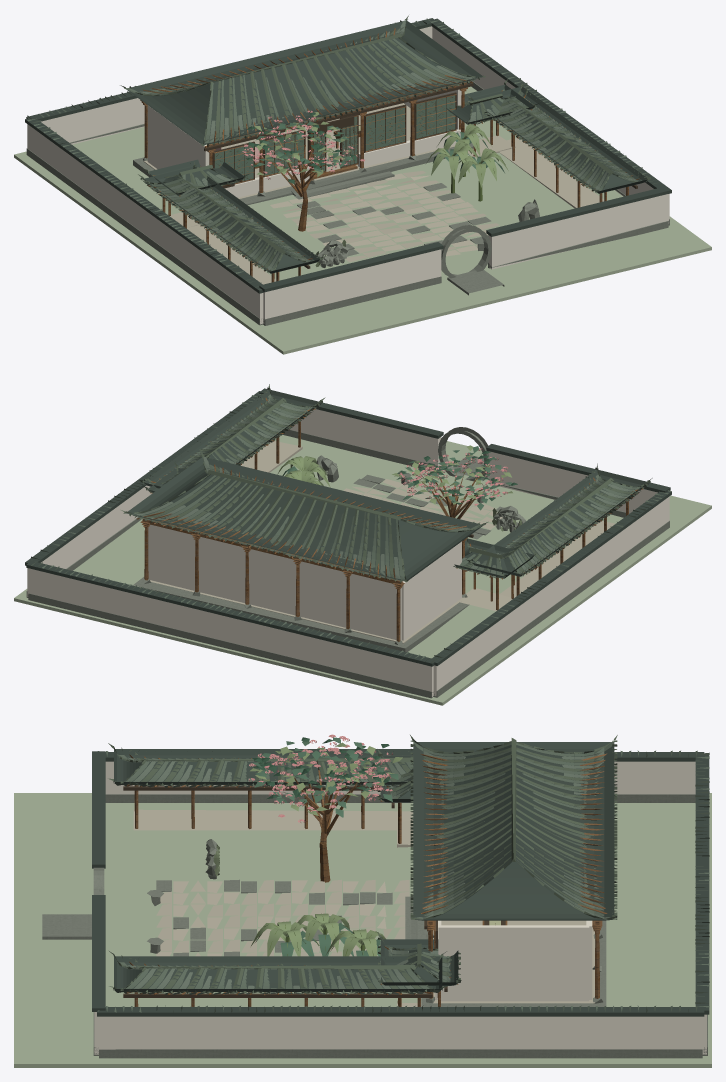
The model's file is public_models_places-low_yihongyuan.glb.
3 renders of one model, top to bottom at view 1: azimuth 30°, elevation 25°; view 2: azimuth 150°, elevation 25°; view 3: azimuth 270°, elevation 25°, orthographic. The views are drawn at different scales.
Visible parts, largest first — view 1: yihongyuan_roof, yihongyuan_earth, yihongyuan_plaster, yihongyuan_paving, yihongyuan_stone, yihongyuan_tiledark, yihongyuan_tile, yihongyuan_wood, yihongyuan_screen, yihongyuan_tilelight, yihongyuan_lightleaf, yihongyuan_darkwood (+3 smaller); view 2: yihongyuan_plaster, yihongyuan_roof, yihongyuan_earth, yihongyuan_stone, yihongyuan_tiledark, yihongyuan_tile, yihongyuan_wood, yihongyuan_paving, yihongyuan_tilelight, yihongyuan_lightleaf, yihongyuan_flower, yihongyuan_leaf (+1 smaller); view 3: yihongyuan_earth, yihongyuan_roof, yihongyuan_plaster, yihongyuan_tiledark, yihongyuan_paving, yihongyuan_stone, yihongyuan_tile, yihongyuan_wood, yihongyuan_tilelight, yihongyuan_lightleaf, yihongyuan_darkwood, yihongyuan_leaf (+2 smaller).
Boxes of the visible parts, left/top/right/bottom form: yihongyuan_roof: left=25, top=18, right=671, bottom=293; yihongyuan_earth: left=14, top=86, right=711, bottom=354; yihongyuan_plaster: left=27, top=26, right=669, bottom=324; yihongyuan_paving: left=143, top=103, right=604, bottom=284; yihongyuan_stone: left=26, top=80, right=669, bottom=325; yihongyuan_tiledark: left=120, top=15, right=650, bottom=272; yihongyuan_tile: left=27, top=18, right=658, bottom=289; yihongyuan_wood: left=140, top=28, right=640, bottom=282; yihongyuan_screen: left=214, top=95, right=455, bottom=183; yihongyuan_tilelight: left=140, top=20, right=638, bottom=271; yihongyuan_lightleaf: left=254, top=112, right=508, bottom=187; yihongyuan_darkwood: left=204, top=83, right=637, bottom=268; yihongyuan_plaster: left=27, top=409, right=669, bottom=696; yihongyuan_roof: left=25, top=388, right=671, bottom=666; yihongyuan_earth: left=14, top=434, right=711, bottom=705; yihongyuan_stone: left=26, top=427, right=669, bottom=698; yihongyuan_tiledark: left=121, top=384, right=652, bottom=582; yihongyuan_tile: left=31, top=390, right=671, bottom=662; yihongyuan_wood: left=136, top=398, right=643, bottom=641; yihongyuan_paving: left=150, top=441, right=615, bottom=643; yihongyuan_tilelight: left=127, top=399, right=645, bottom=580; yihongyuan_lightleaf: left=277, top=445, right=512, bottom=504; yihongyuan_flower: left=398, top=448, right=507, bottom=505; yihongyuan_leaf: left=282, top=446, right=512, bottom=510; yihongyuan_earth: left=14, top=793, right=711, bottom=1067; yihongyuan_roof: left=92, top=742, right=709, bottom=1016; yihongyuan_plaster: left=94, top=761, right=706, bottom=1054; yihongyuan_tiledark: left=108, top=735, right=617, bottom=993; yihongyuan_paving: left=133, top=809, right=594, bottom=1006; yihongyuan_stone: left=42, top=794, right=707, bottom=1058; yihongyuan_tile: left=98, top=742, right=709, bottom=1012; yihongyuan_wood: left=126, top=753, right=614, bottom=1006; yihongyuan_tilelight: left=123, top=751, right=614, bottom=994; yihongyuan_lightleaf: left=250, top=742, right=402, bottom=956; yihongyuan_darkwood: left=123, top=786, right=505, bottom=997; yihongyuan_leaf: left=252, top=737, right=398, bottom=956.
Bounding box in the file's own units: 34 × 8.19 × 37.
19 materials, 2 textured.
